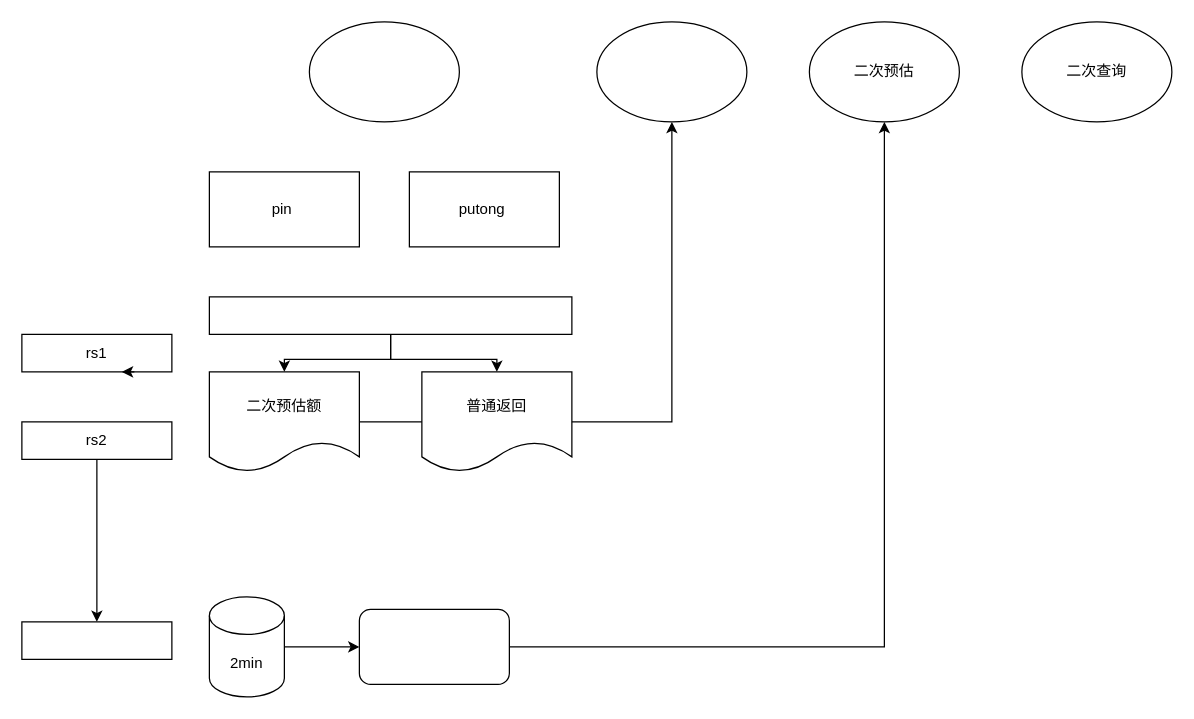
The diagram is 1194 pixels wide and 719 high, and some of its shapes have lost their labels. The shapes that lost their labels are listed below. From the top down, each one's centre as x and y in pixels, then its label:
(671,71): 查询
(390,315): 合并
(96,640): tool
(433,646): estmate_ID: estmate_ID__2_2_2
